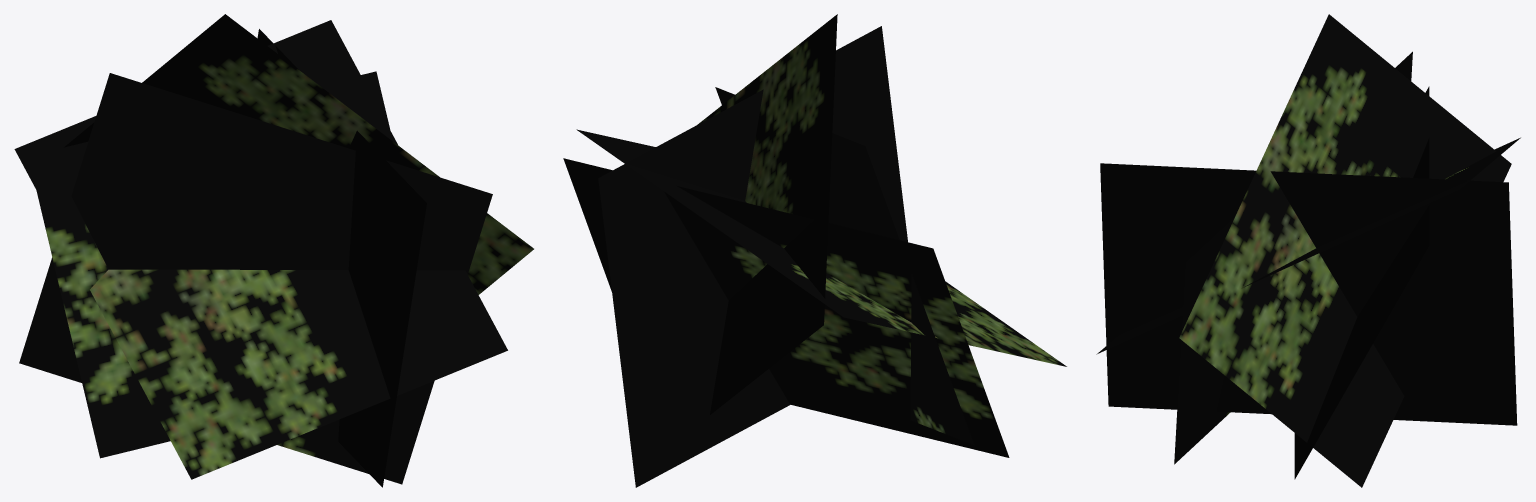
Rendered from pine_leaves_green.obj.
3 renders of one model, left to right at view 1: azimuth 30°, elevation 25°; view 2: azimuth 150°, elevation 25°; view 3: azimuth 270°, elevation 25°, orthographic. The views are drawn at different scales.
Parts seen in each view (by area): view 1: plane; view 2: plane; view 3: plane.
Part boxes in pixels (<box>): plane: <box>14,14,533,487</box>; plane: <box>563,14,1066,487</box>; plane: <box>1096,14,1520,487</box>.
Bounding box in the file's own units: 1.85 × 1.93 × 1.82.
